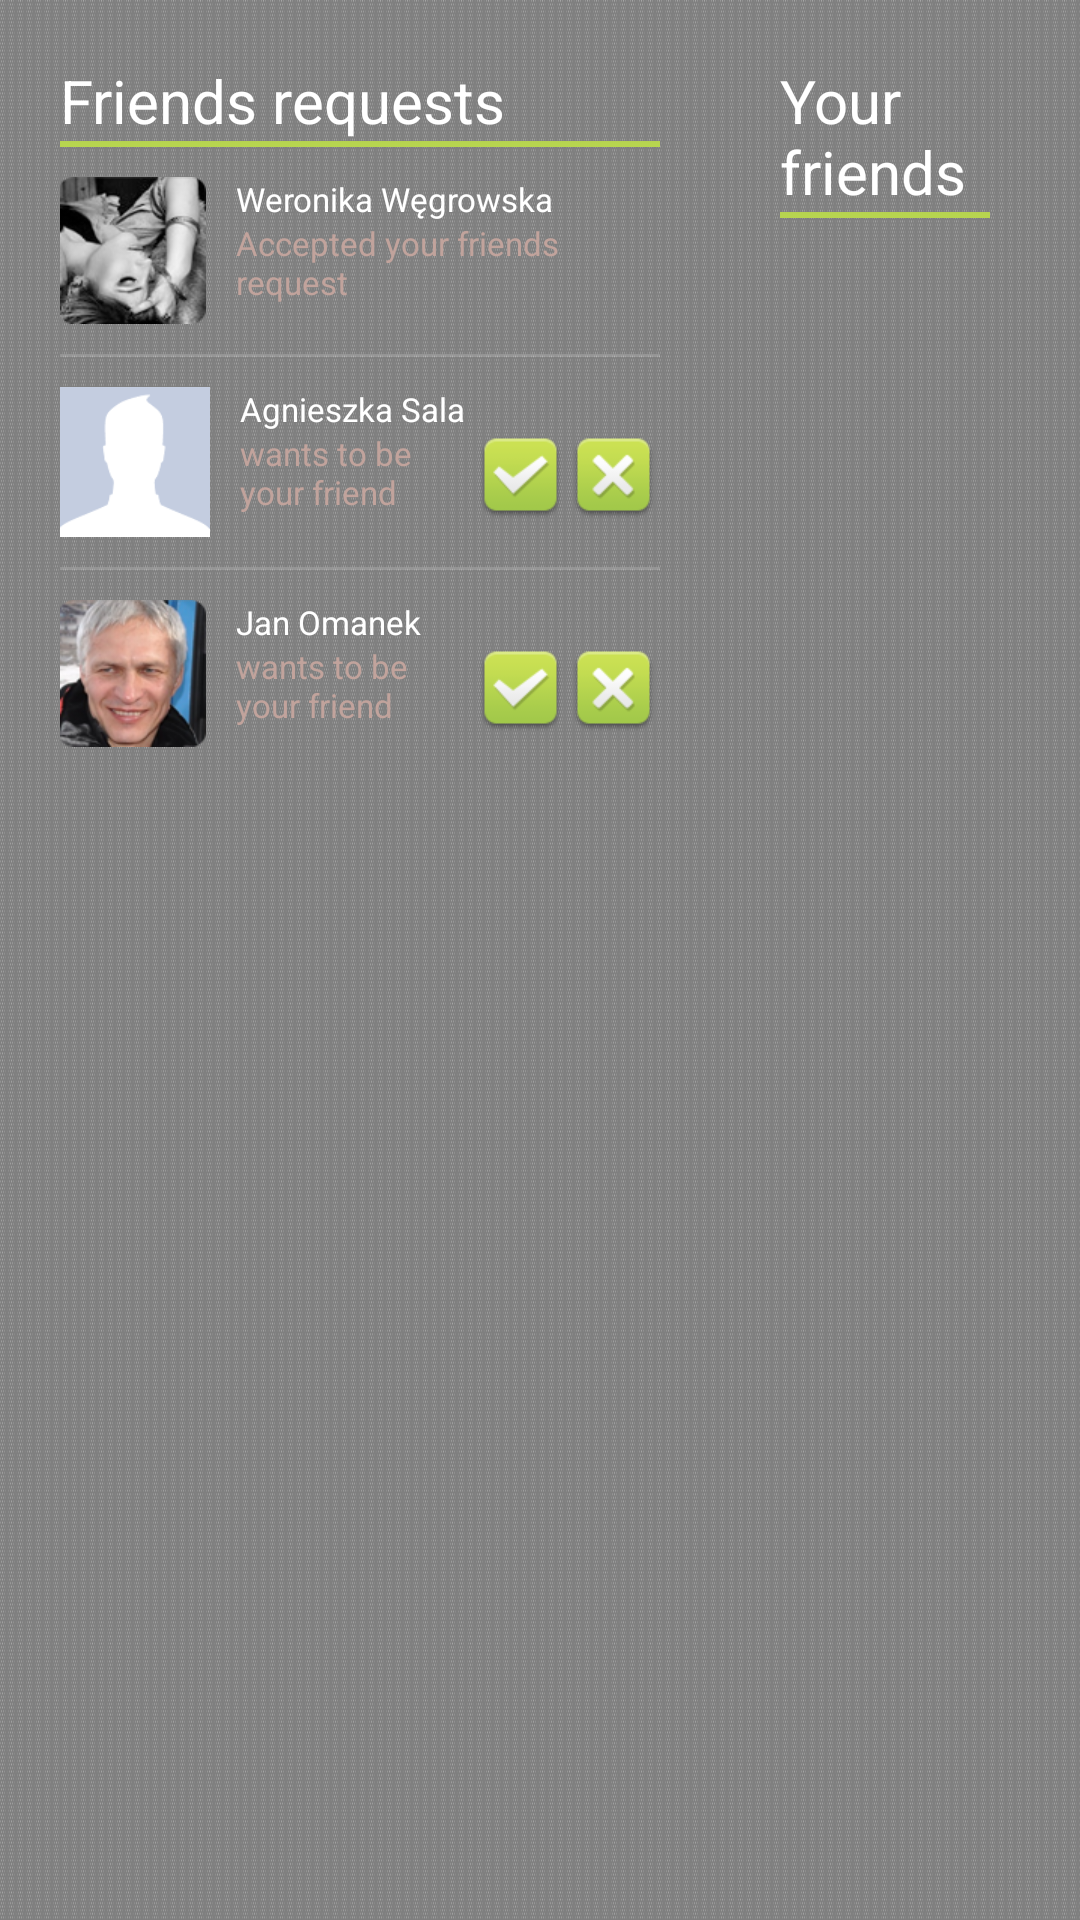

Icons on this 1080x1920 Android screen, each with its box as (x1, y1, x2, y2):
friends accept: (477, 431, 562, 524), (477, 644, 562, 737)
friends reject: (567, 431, 660, 524), (567, 644, 660, 737)
